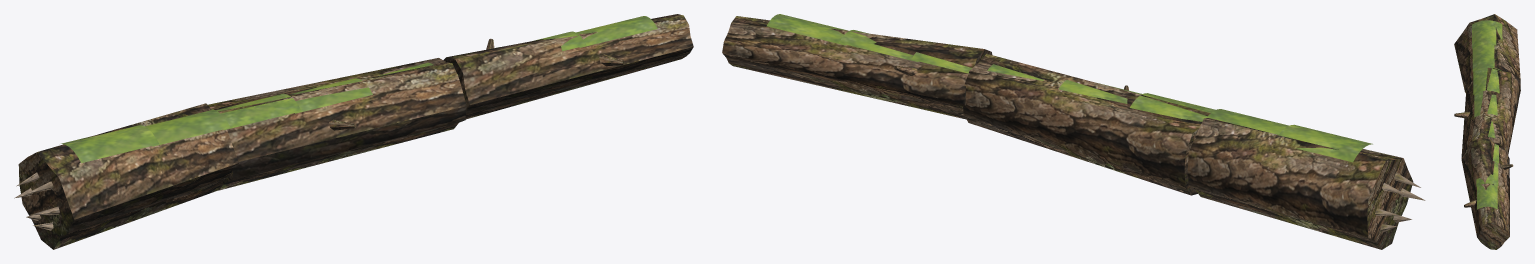
The model's file is Log_Fallen_Bridge.glb.
3 renders of one model, left to right at view 1: azimuth 30°, elevation 25°; view 2: azimuth 150°, elevation 25°; view 3: azimuth 270°, elevation 25°, orthographic. The views are drawn at different scales.
Visible parts, largest first — view 1: Log_Fallen_Bridge; view 2: Log_Fallen_Bridge; view 3: Log_Fallen_Bridge.
Boxes of the visible parts, x1,y1,x2,y2 form: Log_Fallen_Bridge: [14, 14, 693, 249]; Log_Fallen_Bridge: [722, 14, 1425, 249]; Log_Fallen_Bridge: [1454, 14, 1520, 249].
Size of the model in its own units: 8.46 by 1.14 by 1.16.
Materials: 1 (1 with a texture image).
